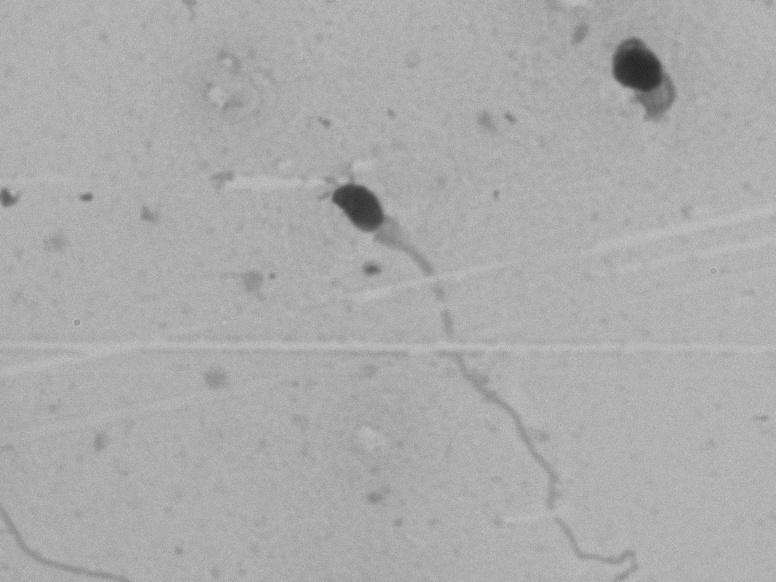Abnormal: (302, 152, 648, 490), (584, 12, 719, 134)
